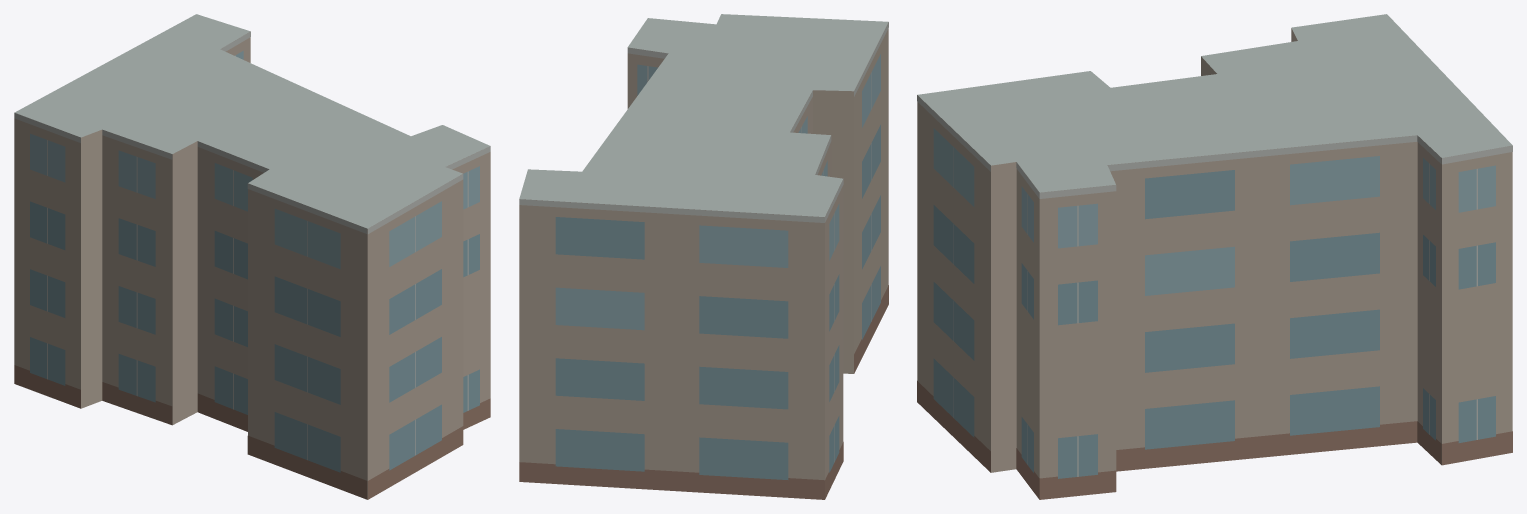
The model's file is survey-upis-33029085.glb.
The picture shows the model from 3 angles, left to right: view 1: azimuth 30°, elevation 25°; view 2: azimuth 150°, elevation 25°; view 3: azimuth 270°, elevation 25°; orthographic projection. The views are drawn at different scales.
Visible parts, largest first — view 1: survey-upis-33029085.tmp; view 2: survey-upis-33029085.tmp; view 3: survey-upis-33029085.tmp.
Part boxes in pixels (x1=…): survey-upis-33029085.tmp: x1=14, y1=14, x2=490, y2=499; survey-upis-33029085.tmp: x1=519, y1=14, x2=888, y2=499; survey-upis-33029085.tmp: x1=917, y1=14, x2=1512, y2=499.
Bounding box in the file's own units: 14.47 × 11.6 × 20.39.
